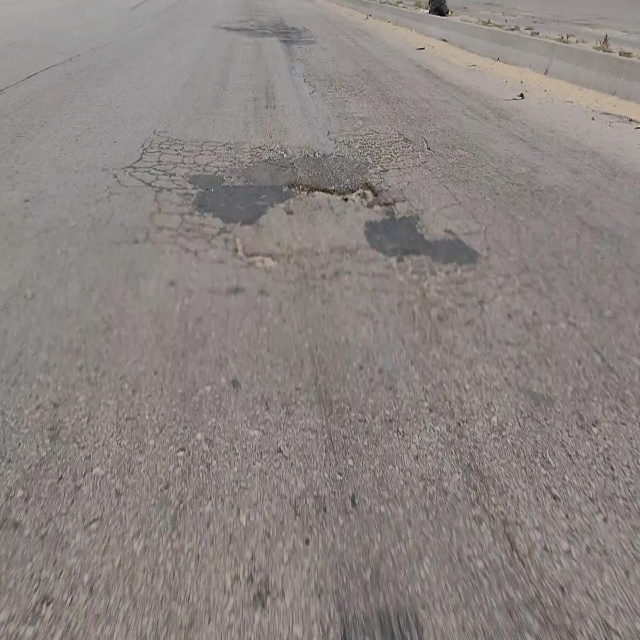pothole: (287, 180, 395, 215)
